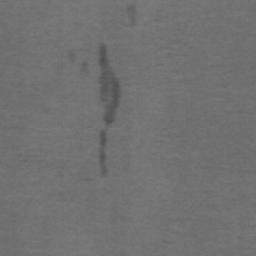Iron scale compression: (98, 44, 122, 127), (99, 130, 108, 176), (128, 6, 135, 19)
